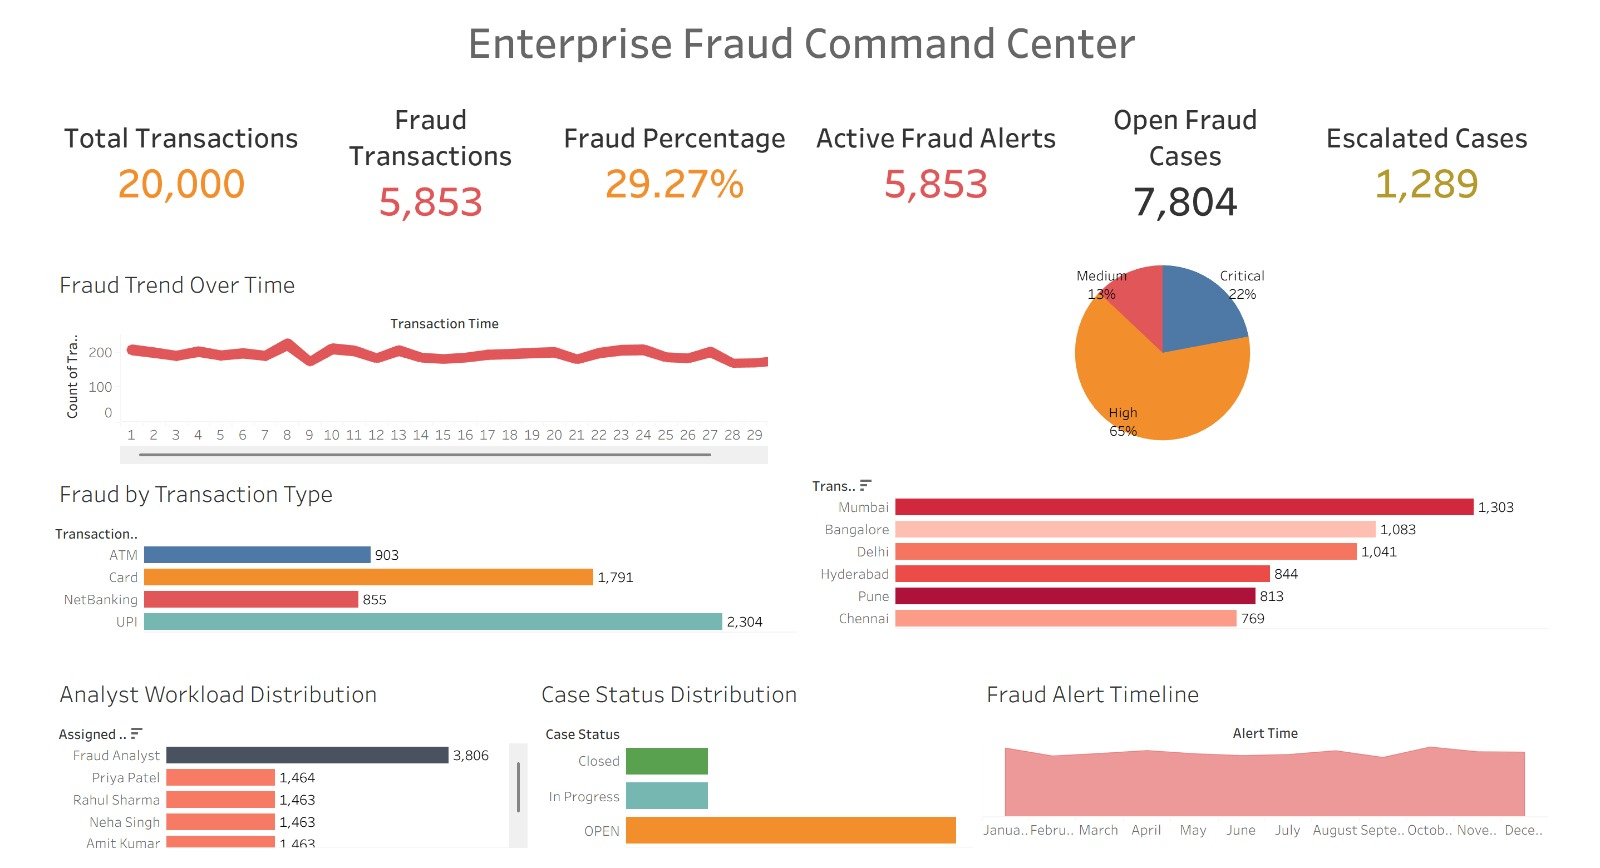

The page's visual inventory and layout, read from the dashboard file:
{"tool":"tableau","page":{"name":"Dashboard 1","canvas":[1400,900],"ordinal":0},"visuals":[{"type":"text","box":[8,8,1384,54]},{"type":"worksheet","title":"KPI_Total_Transactions","mark":"Automatic","box":[8,62,243,203]},{"type":"worksheet","title":"KPI_Fraud_Transactions","mark":"Automatic","box":[251,62,215,203]},{"type":"worksheet","title":"KPI_Fraud_Percentage","mark":"Automatic","box":[466,62,234,203]},{"type":"worksheet","title":"KPI_Active_Alerts","mark":"Automatic","box":[700,62,247,203]},{"type":"worksheet","title":"KPI_Open_Cases","mark":"Automatic","box":[947,62,212,203]},{"type":"worksheet","title":"KPI_Escalated_Cases","mark":"Automatic","box":[1159,62,233,203]},{"type":"worksheet","title":"Fraud_Trend_Analysis","mark":"Line","rows":["TransactionID"],"cols":["TransactionTime"],"box":[8,265,692,211.5]},{"type":"worksheet","title":"Fraud_Severity_Distribution","mark":"Pie","box":[700,265,692,211]},{"type":"worksheet","title":"Fraud_By_Transaction_Type","mark":"Automatic","rows":["TransactionType"],"cols":["TransactionID"],"box":[8,476.5,692,190]},{"type":"worksheet","title":"Fraud_By_Location","mark":"Automatic","rows":["TransactionLocation"],"cols":["TransactionID"],"box":[700,476.5,692,221.5]},{"type":"worksheet","title":"Analyst_Workload","mark":"Automatic","rows":["AssignedAnalyst"],"cols":["CaseID"],"box":[8,698,444,194]},{"type":"worksheet","title":"Case_Status_Distribution","mark":"Automatic","rows":["CaseStatus"],"cols":["CaseID"],"box":[452,698,400,194]},{"type":"worksheet","title":"Fraud_Alert_Timeline","mark":"Area","rows":["AlertID"],"cols":["AlertTime"],"box":[852,698,540,194]}]}

Visuals, with their boxes on the page's 1400x900 design canvas (x1, y1, x2, y2). These are canvas units, not pixel positions in the 1600x868 screenshot, which may show the page scaled, cropped or inside an application window:
text: locate(8, 8, 1392, 62)
"KPI_Total_Transactions" worksheet: locate(8, 62, 251, 265)
"KPI_Fraud_Transactions" worksheet: locate(251, 62, 466, 265)
"KPI_Fraud_Percentage" worksheet: locate(466, 62, 700, 265)
"KPI_Active_Alerts" worksheet: locate(700, 62, 947, 265)
"KPI_Open_Cases" worksheet: locate(947, 62, 1159, 265)
"KPI_Escalated_Cases" worksheet: locate(1159, 62, 1392, 265)
"Fraud_Trend_Analysis" worksheet (Line marks): locate(8, 265, 700, 476)
"Fraud_Severity_Distribution" worksheet (Pie marks): locate(700, 265, 1392, 476)
"Fraud_By_Transaction_Type" worksheet: locate(8, 476, 700, 666)
"Fraud_By_Location" worksheet: locate(700, 476, 1392, 698)
"Analyst_Workload" worksheet: locate(8, 698, 452, 892)
"Case_Status_Distribution" worksheet: locate(452, 698, 852, 892)
"Fraud_Alert_Timeline" worksheet (Area marks): locate(852, 698, 1392, 892)
